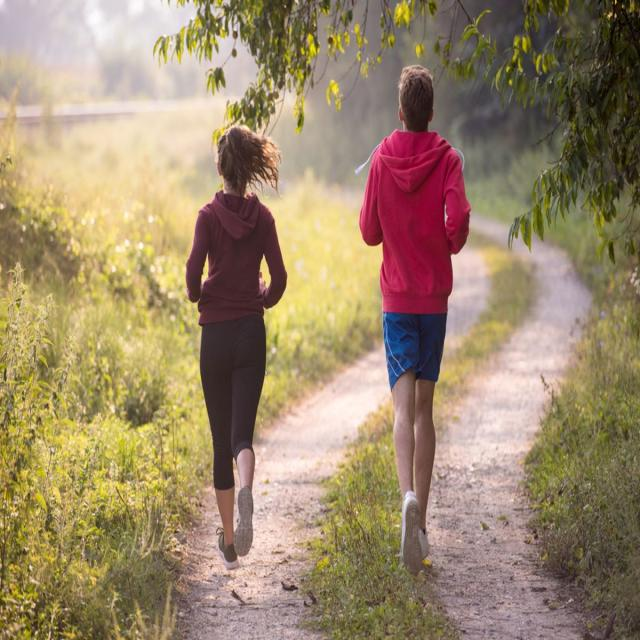Person: (359, 66, 472, 576), (185, 127, 287, 572)
